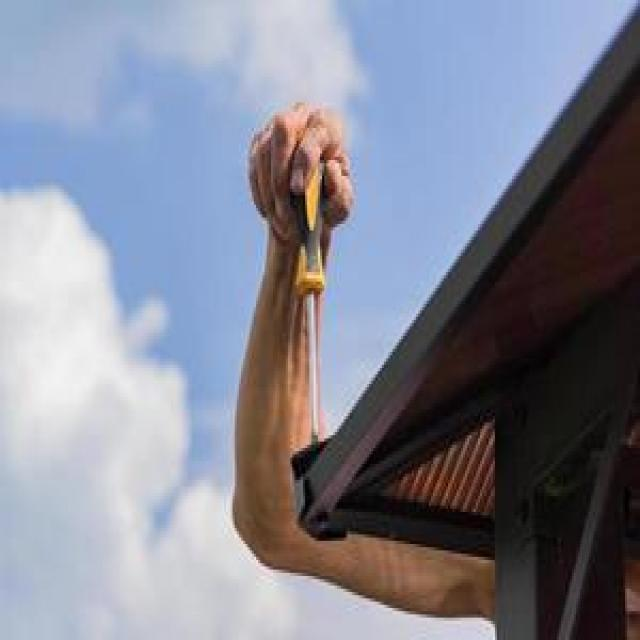screwdriver: (292, 142, 330, 456)
